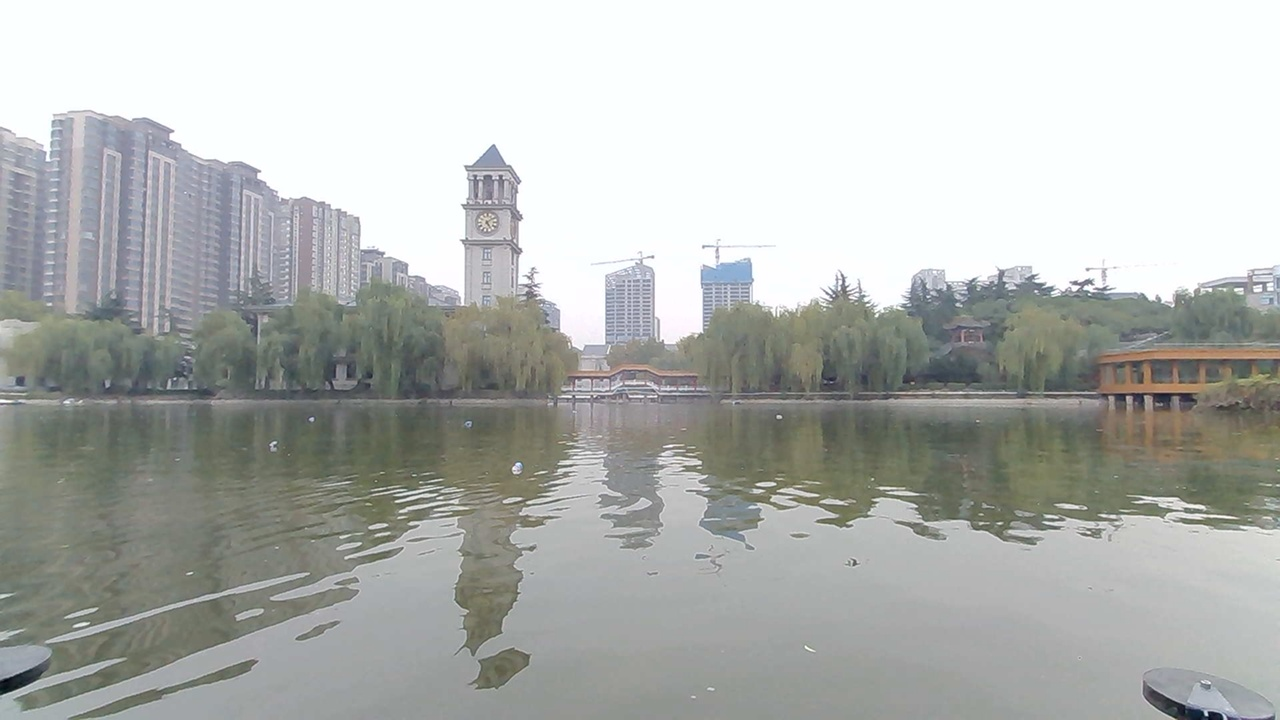bottle: (487, 449, 547, 482), (252, 433, 293, 456), (761, 403, 800, 426), (449, 410, 486, 434), (293, 403, 329, 427)
